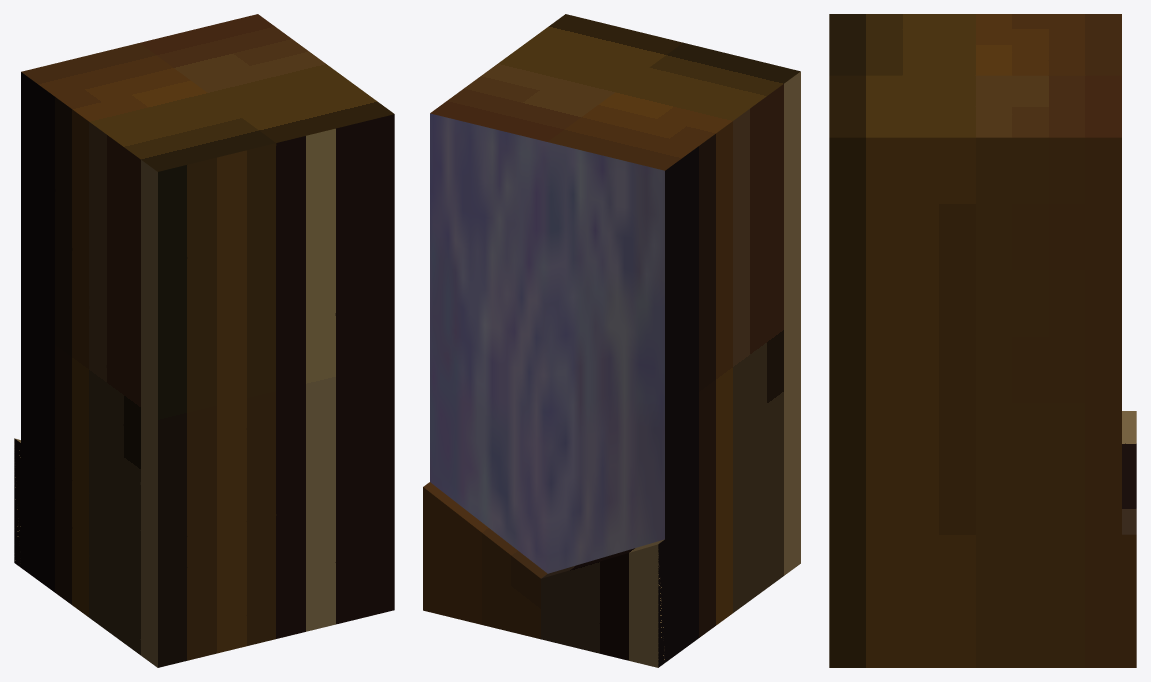
Rendered from jackWall.glb.
3 renders of one model, left to right at view 1: azimuth 30°, elevation 25°; view 2: azimuth 150°, elevation 25°; view 3: azimuth 270°, elevation 25°, orthographic. The views are drawn at different scales.
Parts seen in each view (by area): view 1: Cube; view 2: Cube; view 3: Cube.
Part boxes in pixels (left/top/right/bottom): Cube: left=14, top=14, right=394, bottom=667; Cube: left=423, top=14, right=800, bottom=667; Cube: left=829, top=14, right=1136, bottom=667.
Bounding box in the file's own units: 2 × 4 × 2.1.
Materials: 2 (2 with a texture image).
